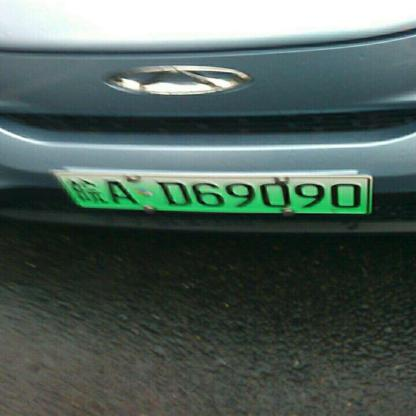lp: (57, 174, 80, 214)
